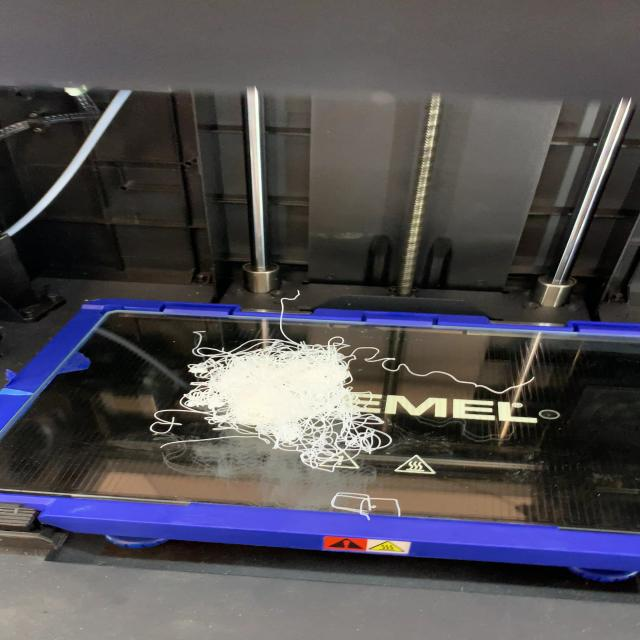spaghetti: (149, 329, 395, 473)
